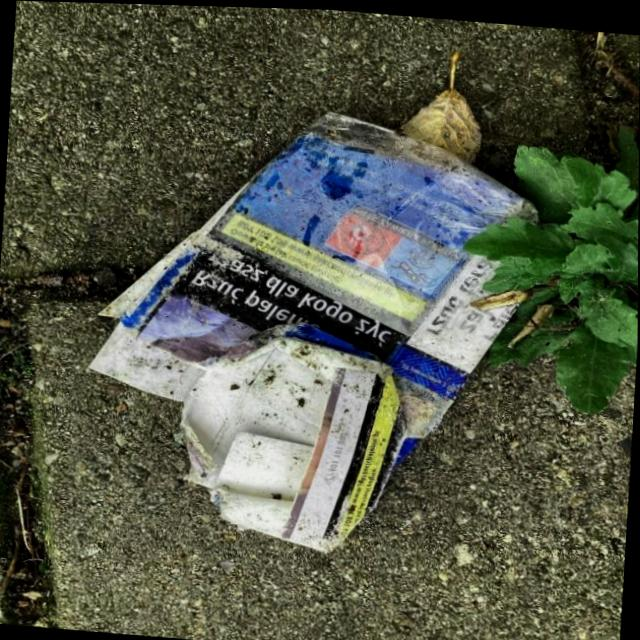Paper: (72, 89, 556, 573)
